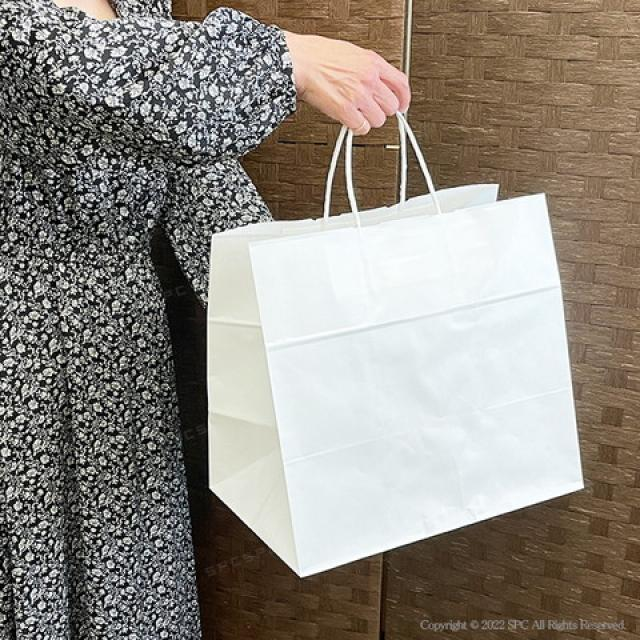paper bag: (197, 85, 583, 582)
